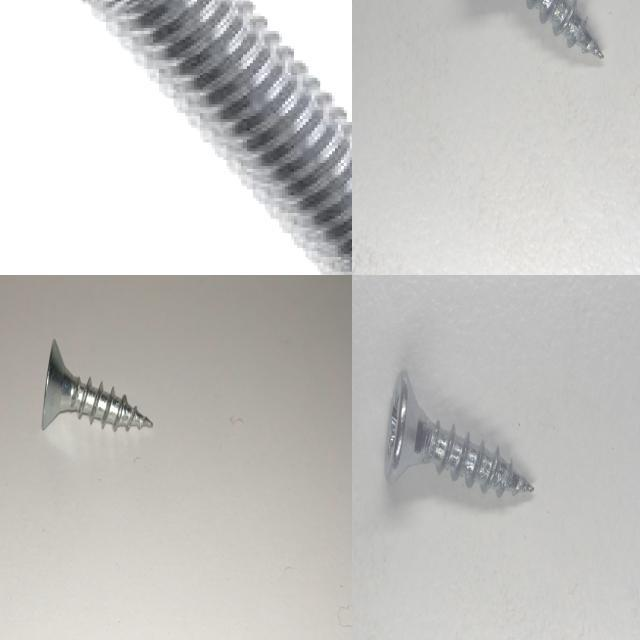Screw: (75, 0, 352, 275), (384, 369, 534, 496), (42, 339, 152, 431), (527, 0, 603, 58)
